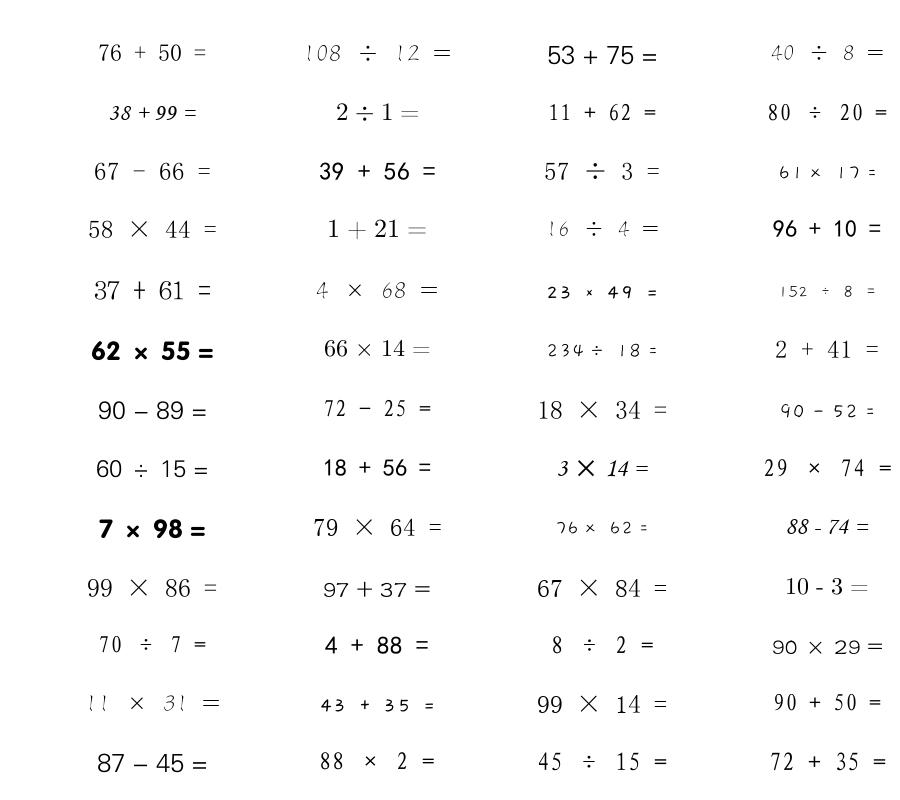MQ: (303, 45, 451, 62), (537, 400, 667, 419), (537, 752, 667, 771), (91, 341, 214, 361), (87, 579, 217, 597), (537, 579, 667, 597), (537, 695, 667, 713), (88, 220, 217, 238), (763, 459, 892, 477), (313, 518, 442, 536), (85, 695, 220, 712), (94, 281, 211, 300), (769, 752, 886, 771), (547, 45, 658, 65), (97, 753, 208, 773), (316, 281, 438, 299), (767, 103, 887, 121), (96, 459, 209, 478), (99, 519, 206, 539), (94, 162, 211, 180), (319, 162, 436, 180), (327, 219, 427, 240), (544, 162, 660, 180), (319, 752, 435, 770), (98, 401, 207, 420), (548, 103, 656, 121), (773, 220, 881, 238), (323, 399, 431, 417), (98, 635, 206, 653), (773, 693, 881, 711), (324, 339, 431, 357), (775, 340, 879, 358), (325, 636, 429, 654), (551, 636, 654, 654), (98, 44, 206, 61), (323, 459, 431, 476), (323, 581, 431, 598), (771, 45, 884, 61), (546, 221, 659, 237), (546, 343, 658, 358), (556, 460, 648, 477), (772, 640, 883, 654), (779, 403, 875, 419), (319, 699, 436, 712), (785, 577, 869, 595), (336, 103, 419, 121), (546, 286, 659, 299), (778, 166, 877, 180), (785, 519, 869, 535), (555, 521, 649, 535), (778, 285, 877, 298), (108, 106, 196, 120)
